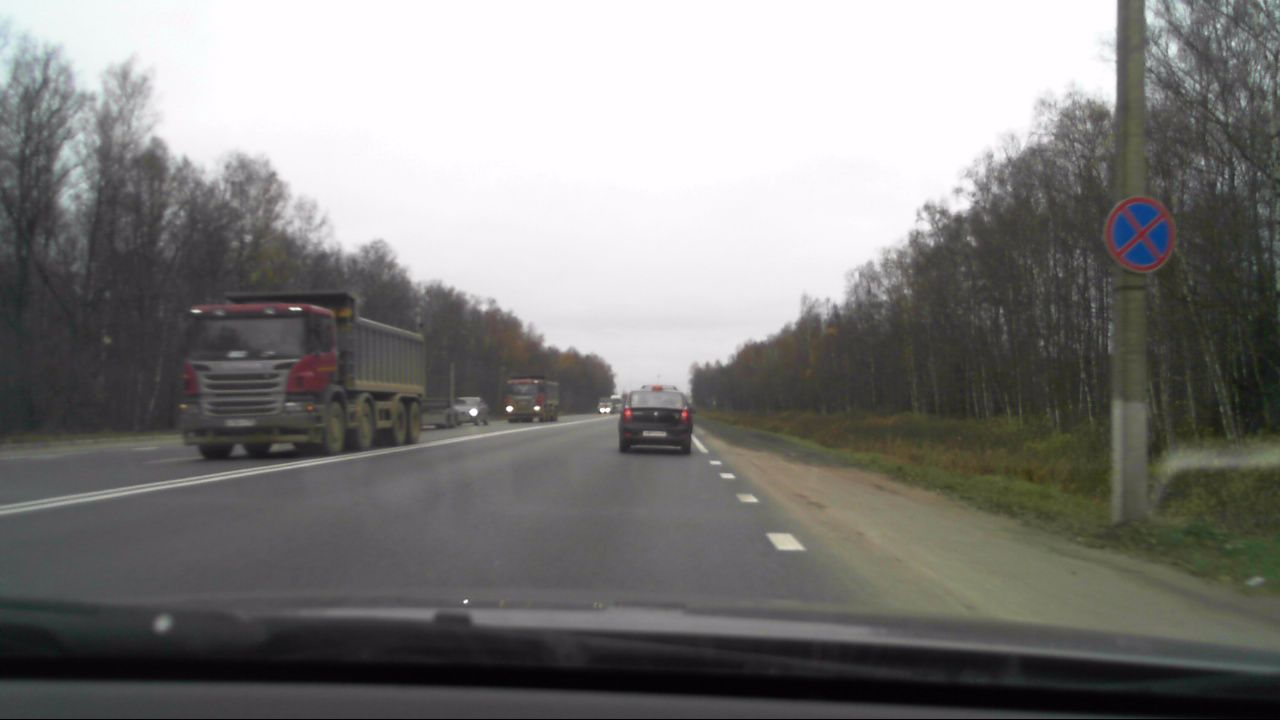No Parking: (1098, 194, 1182, 278)
